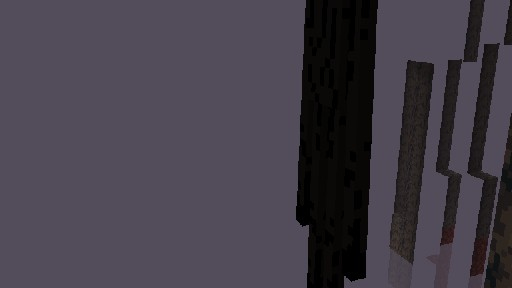enderman: (291, 0, 395, 288)
